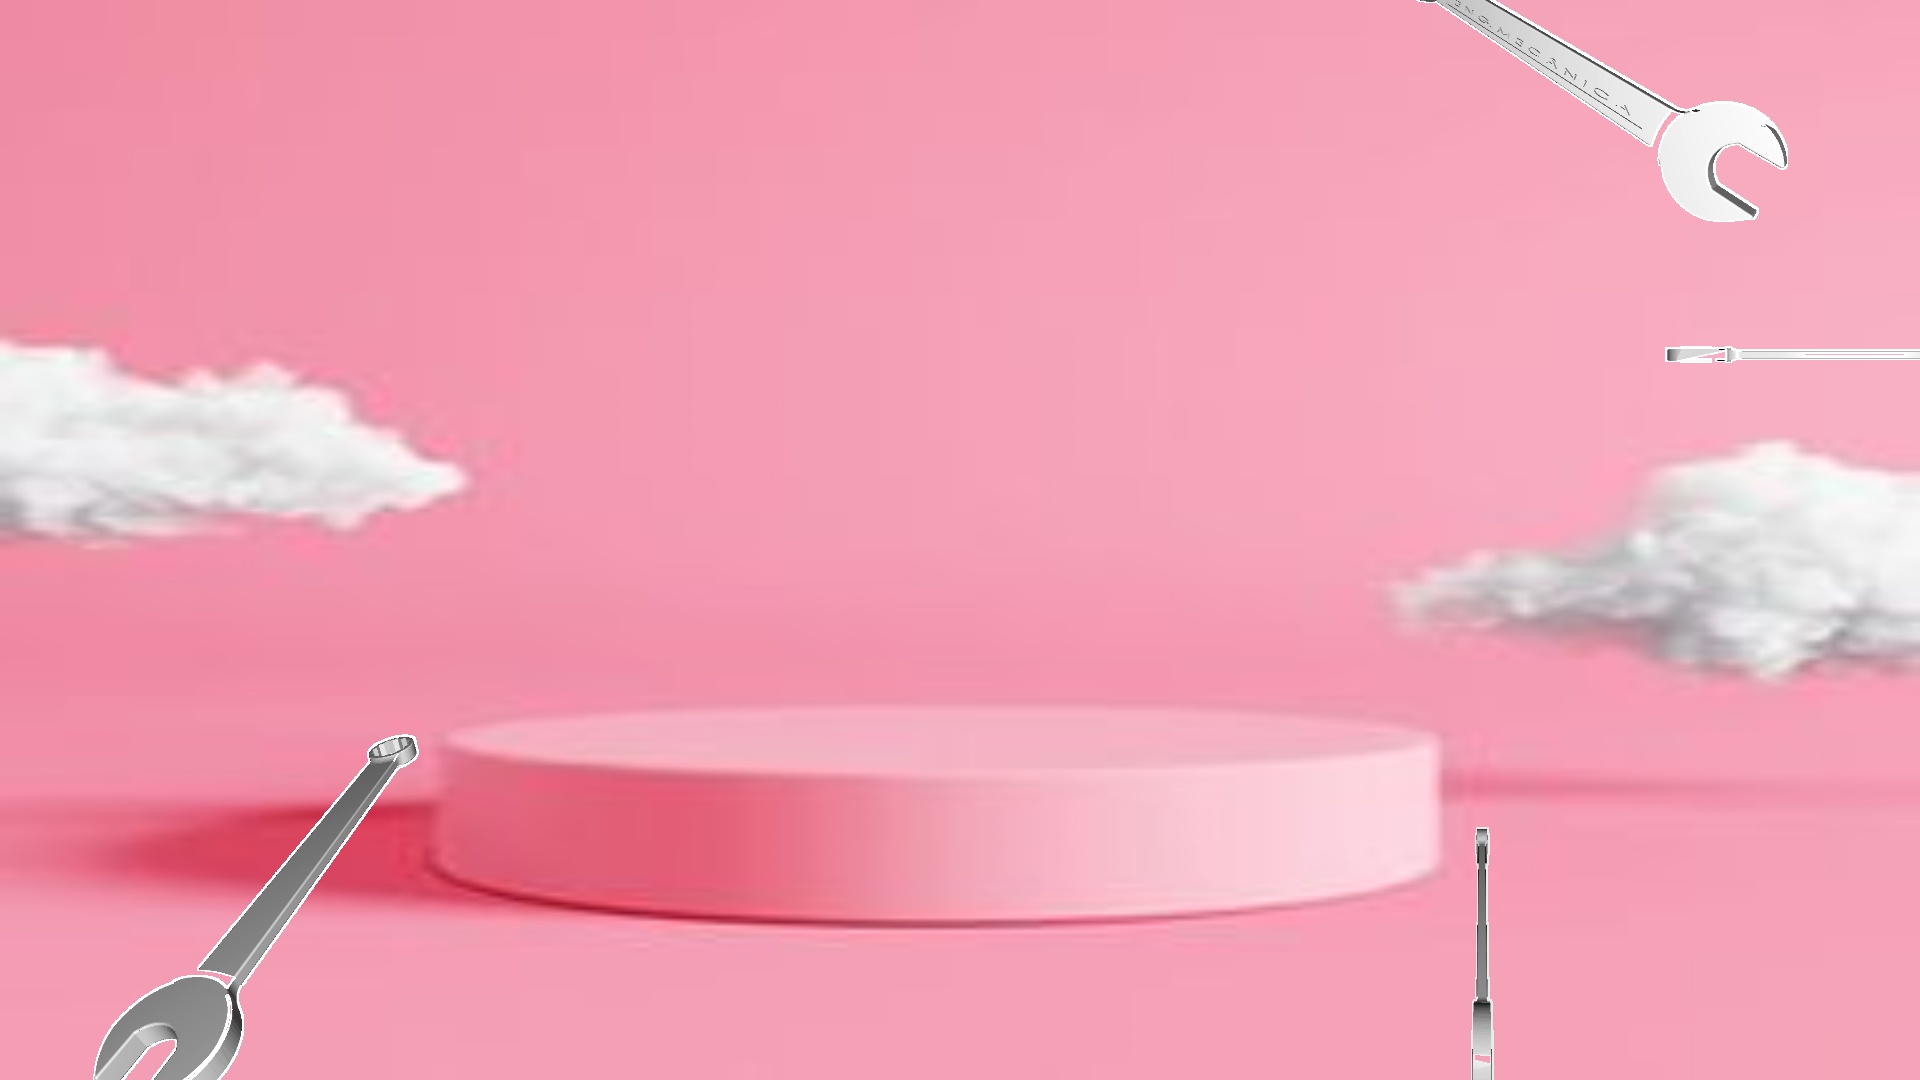Mixed Key: (94, 735, 418, 1079), (1416, 0, 1787, 222), (1472, 827, 1493, 1079), (1665, 345, 1919, 363)
